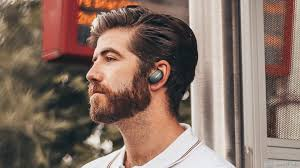earphone: (147, 60, 170, 91)
